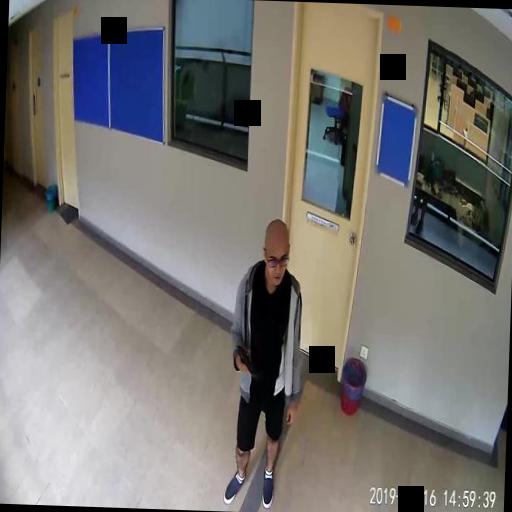Handgun: (234, 343, 257, 378)
